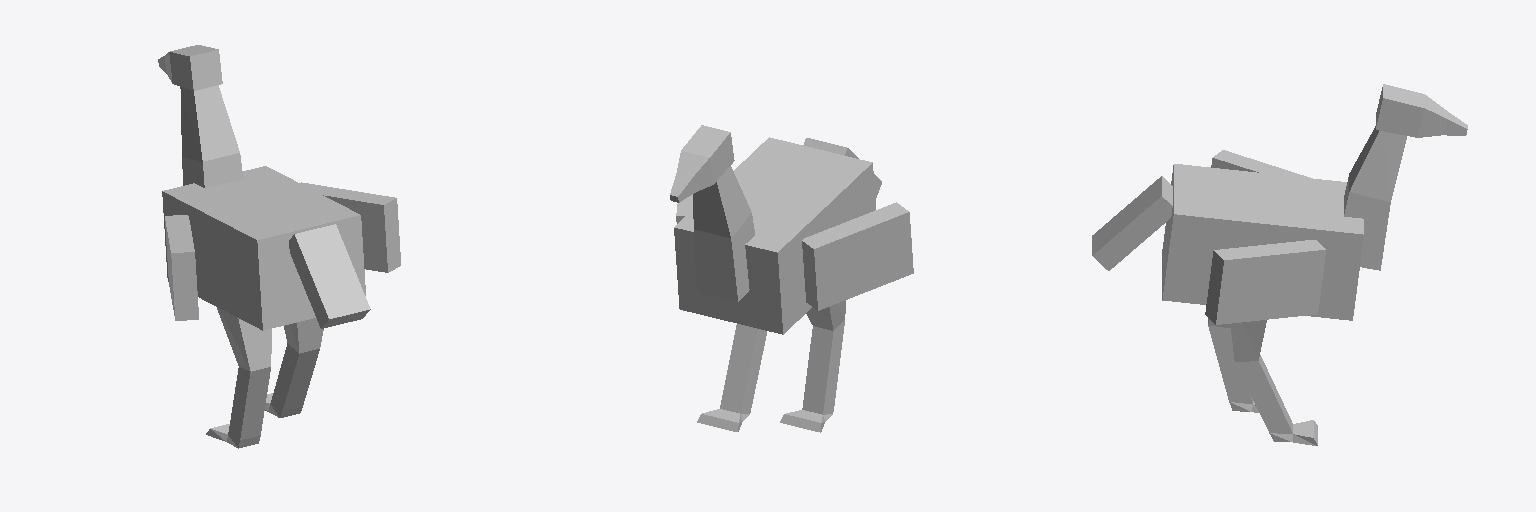
File: Ostrich_000115.obj
3 views of the same model, side by side, from view 1: azimuth 30°, elevation 25°; view 2: azimuth 150°, elevation 25°; view 3: azimuth 270°, elevation 25° (orthographic).
Visible parts, largest first — view 1: Cube_Cube.001; view 2: Cube_Cube.001; view 3: Cube_Cube.001.
Boxes of the visible parts, <box> form: Cube_Cube.001: <box>158,45,400,448</box>; Cube_Cube.001: <box>670,125,913,432</box>; Cube_Cube.001: <box>1092,84,1467,445</box>.
Bounding box in the file's own units: 1.09 × 1.52 × 1.57.